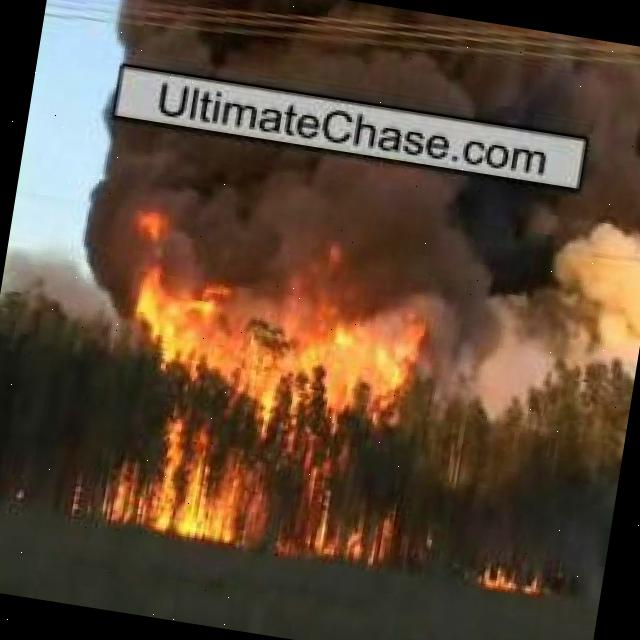fire: (86, 202, 444, 568), (478, 554, 552, 598)
